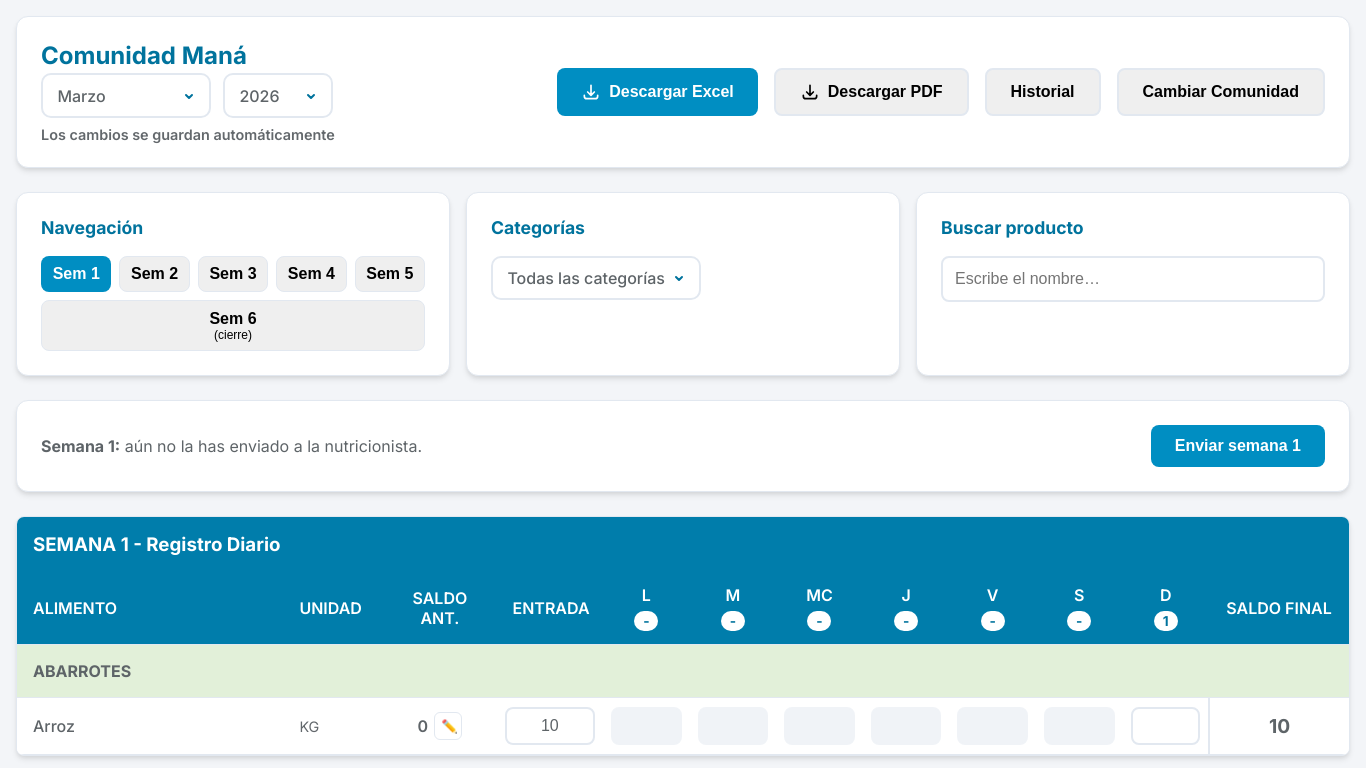
Test: kardex: toasts de las descargas › Descargar Excel avisa «Excel descargado: Marzo 2026.»
Click the button "Descargar Excel" at (658, 92), box [557,68,758,116]
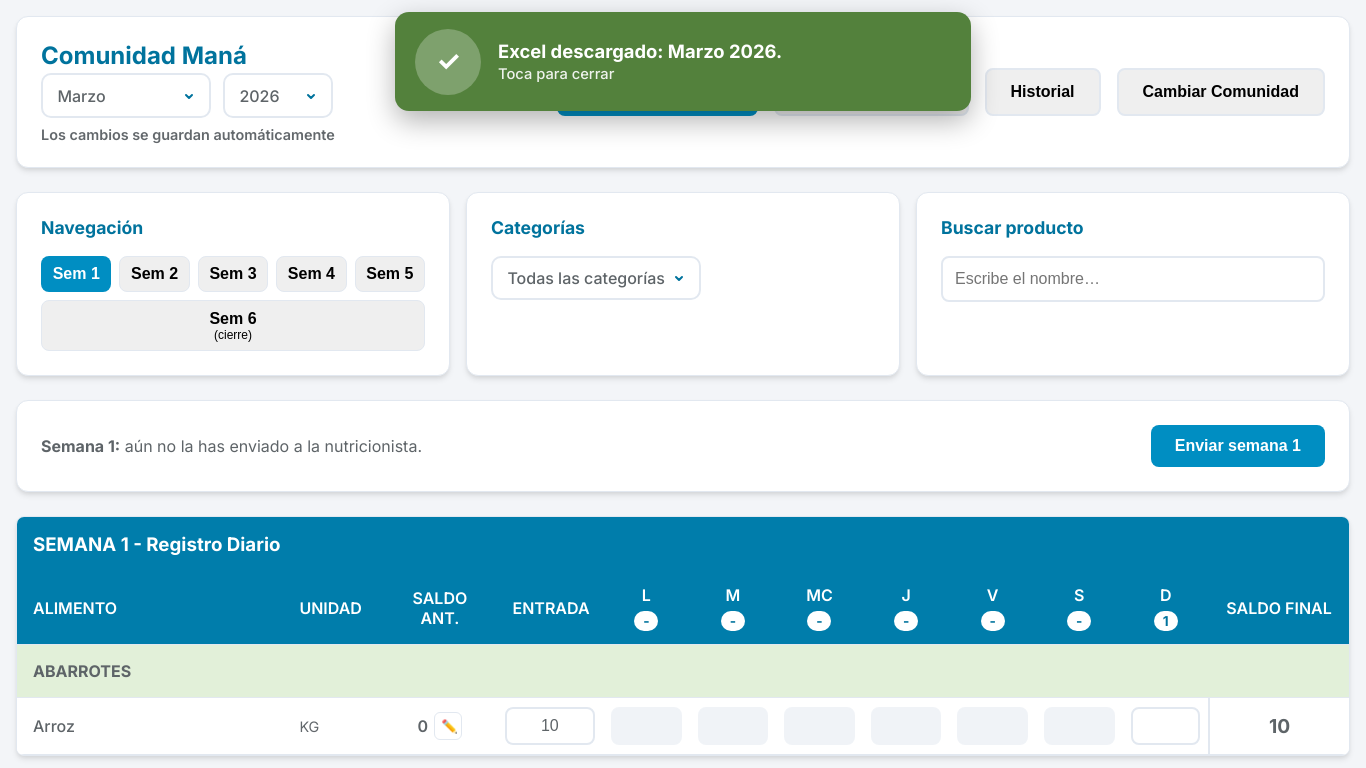
Result: the button with class "toast" is shown at [395,12,971,111]
